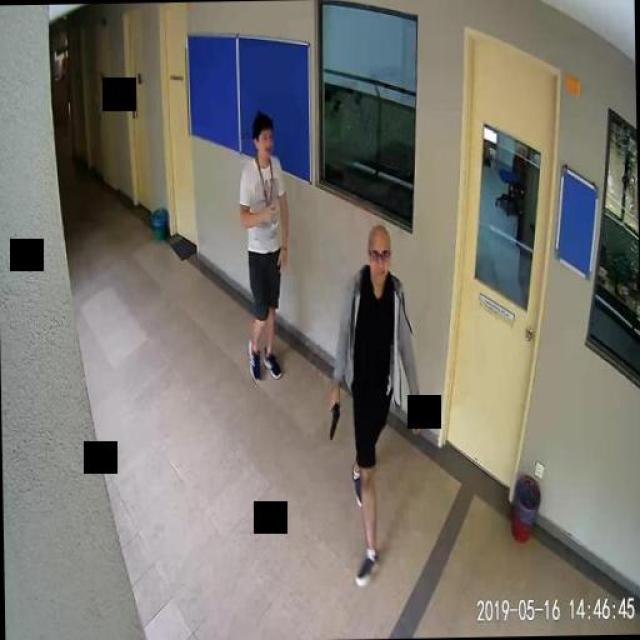gun: (328, 398, 338, 438)
